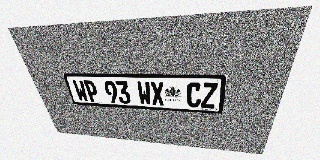3: (115, 81, 131, 104)
9: (103, 81, 119, 103)
C: (186, 82, 202, 108)
P: (83, 80, 100, 102)
W: (136, 81, 152, 105), (72, 80, 89, 102)
X: (150, 82, 165, 106)
Z: (201, 83, 218, 108)
